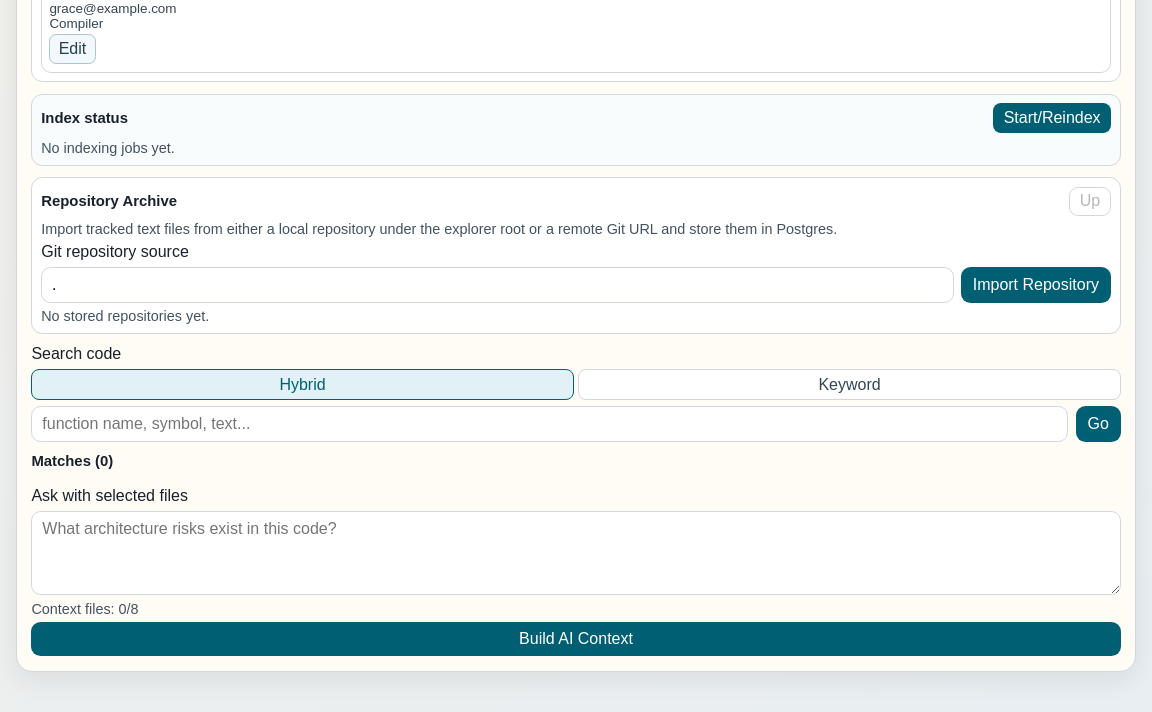
Test: Explorer › can switch to keyword mode for search
(page scrolled)
Click the button "Keyword": point(850, 385) [578, 369, 1121, 400]
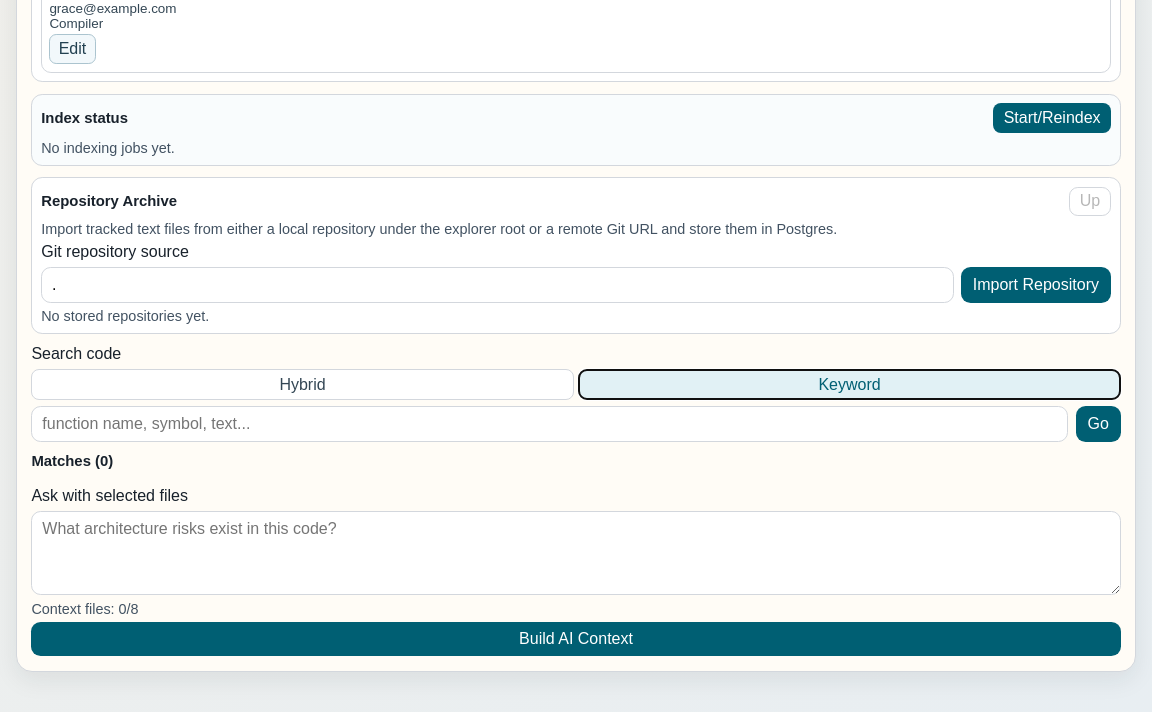
In the field labelled "Search code": point(550, 424) [31, 406, 1068, 442], type "Alpha"
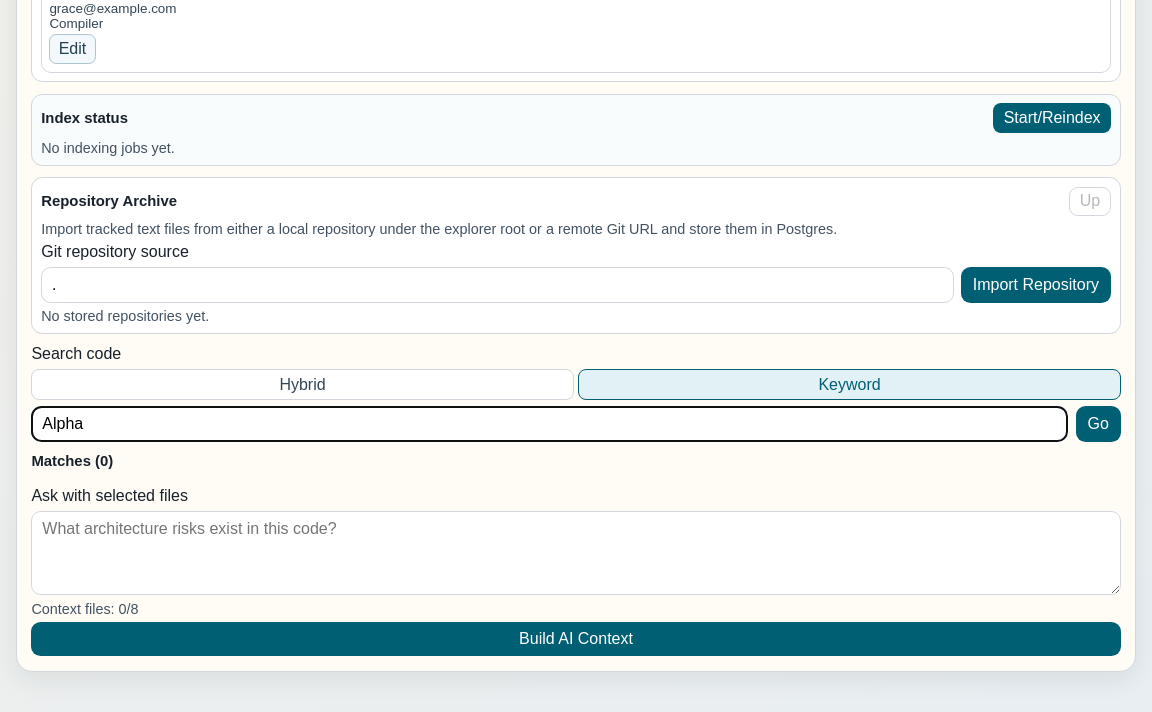
Click the button "Go": point(1098, 424) [1076, 406, 1121, 442]
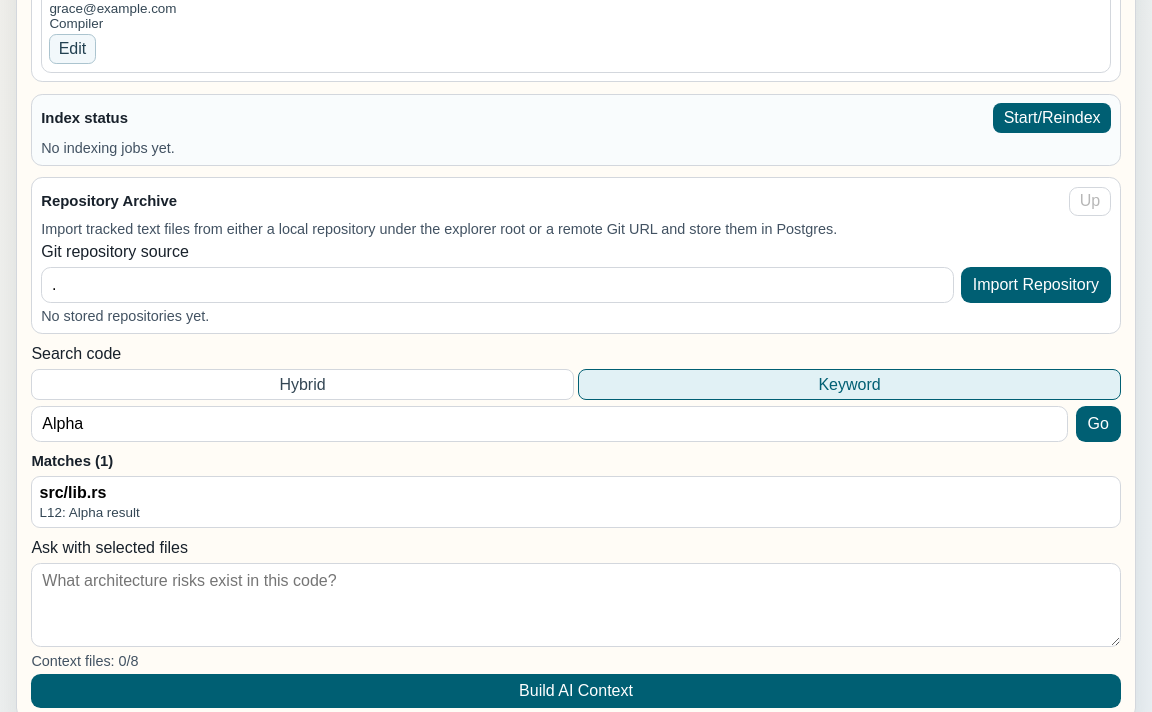
Now the text "L12: Alpha result" is shown, box [40, 505, 140, 520]
